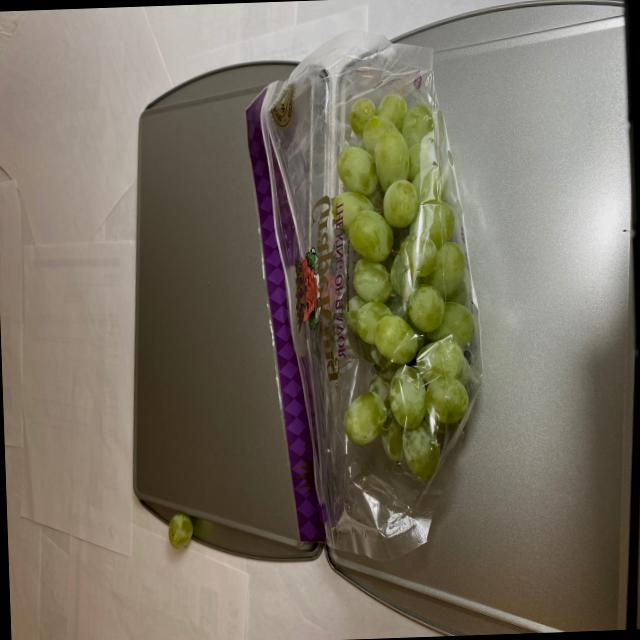grapes: (329, 72, 480, 494)
